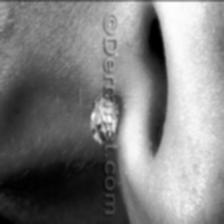Toxin: (88, 92, 121, 141)
